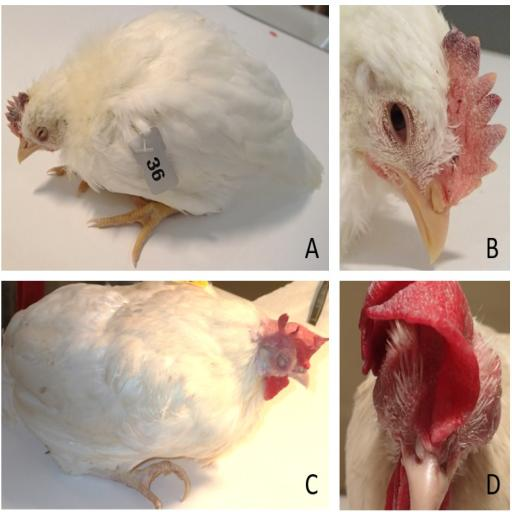disease: (430, 18, 506, 171), (360, 50, 430, 166), (255, 304, 319, 402), (1, 88, 64, 157)
